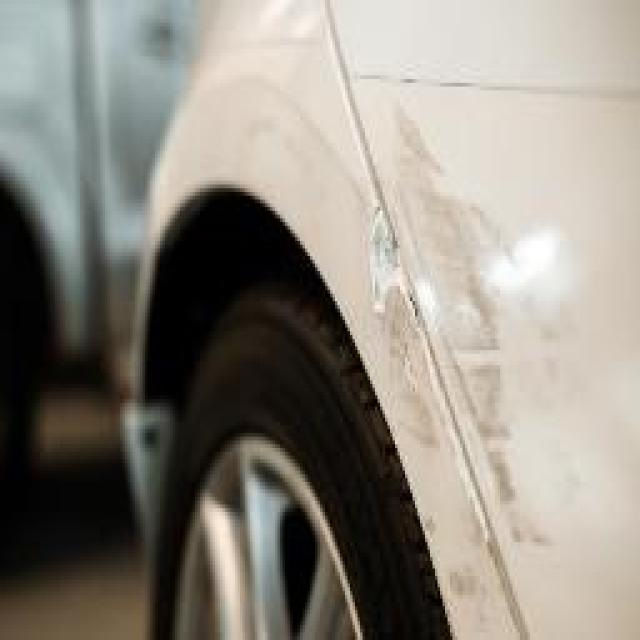Door: (395, 45, 598, 527)
Fender: (338, 188, 420, 384)
